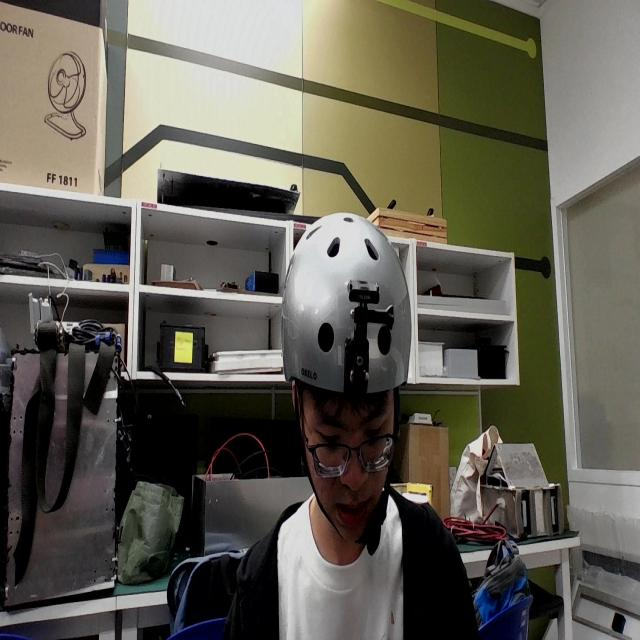With Helmet: (255, 189, 448, 576)
